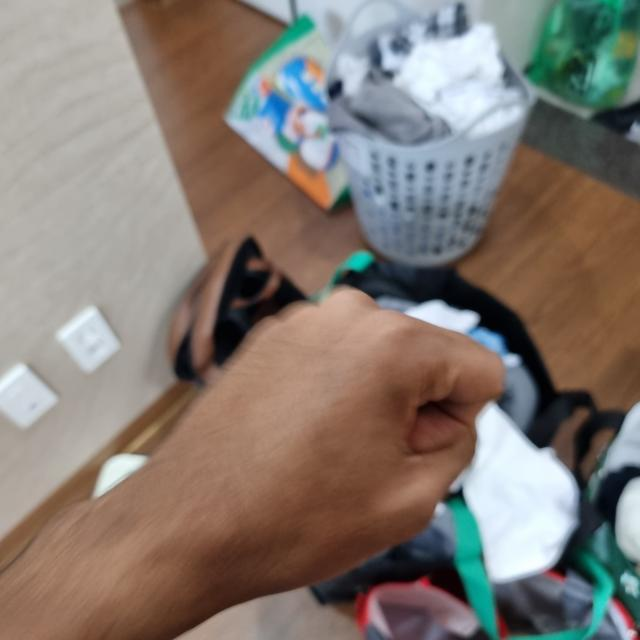Rock: (134, 289, 502, 595)
